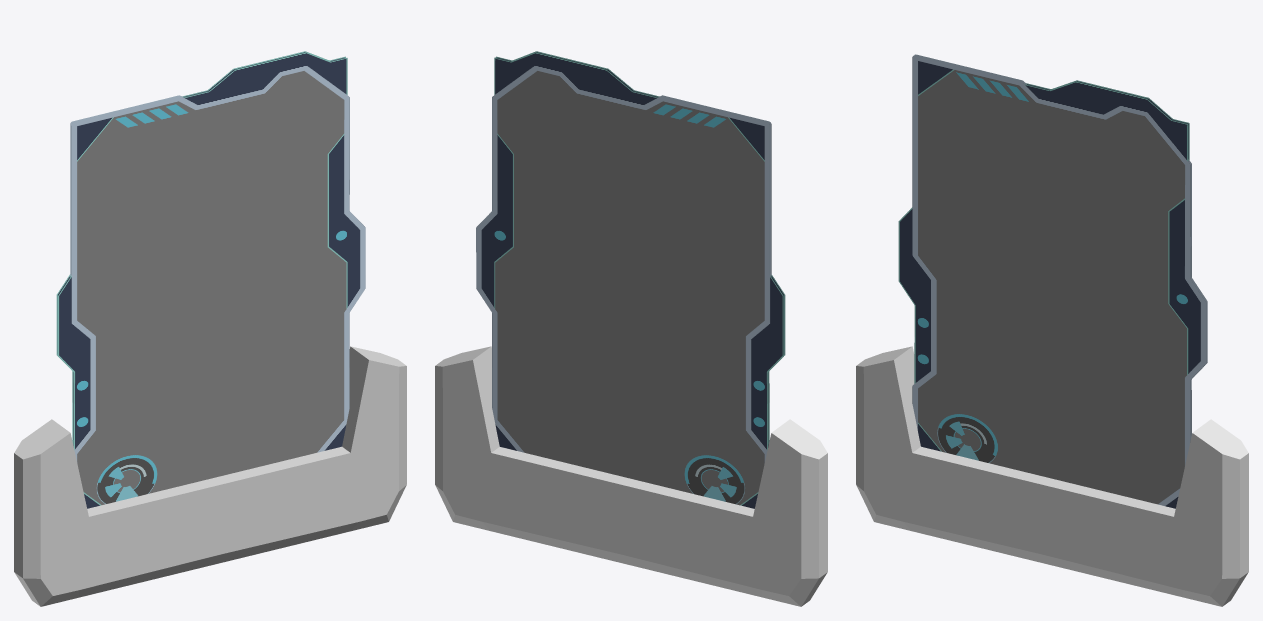
Rendered from scifi-playing-card.fbx.
3 renders of one model, left to right at view 1: azimuth 30°, elevation 25°; view 2: azimuth 150°, elevation 25°; view 3: azimuth 330°, elevation 25°, orthographic.
Visible parts, largest first — view 1: Card, Card Socket; view 2: Card, Card Socket; view 3: Card, Card Socket.
Part boxes in pixels (box(x1,y1,x2,y2)): Card: box(56, 51, 365, 508); Card Socket: box(14, 346, 406, 606); Card: box(476, 51, 785, 508); Card Socket: box(435, 346, 827, 606); Card: box(898, 54, 1207, 508); Card Socket: box(856, 346, 1248, 606).
Bounding box in the file's own units: 7.53 × 9.51 × 0.6361.
1 material, 1 textured.
